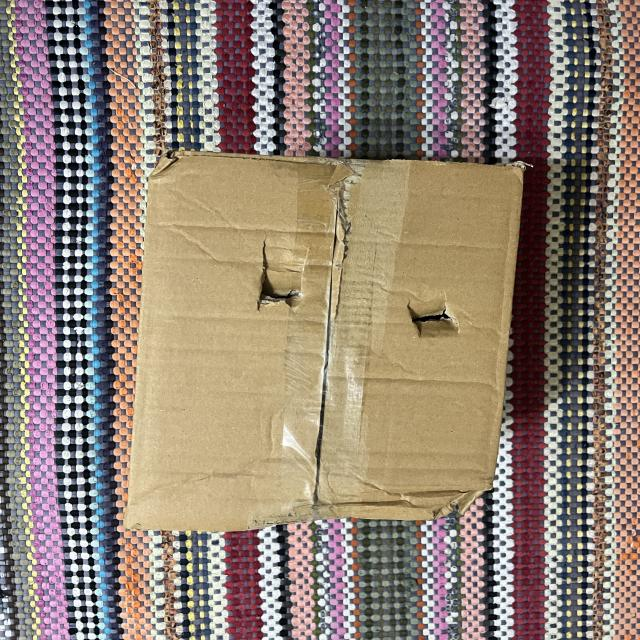damaged: (113, 138, 536, 539), (315, 478, 496, 537), (246, 230, 316, 330), (389, 281, 472, 355), (322, 159, 372, 263), (146, 134, 191, 186)
